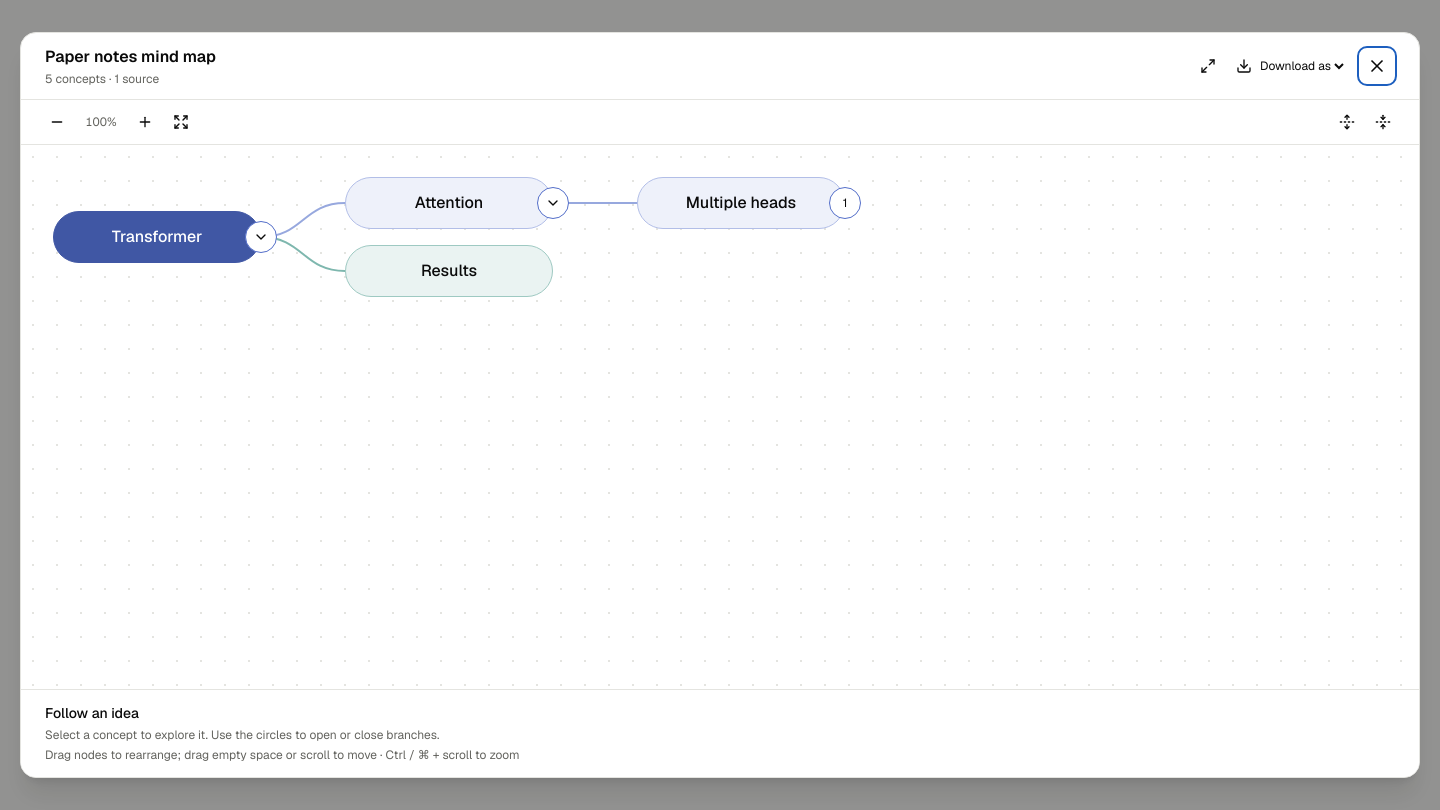
Test: mind map exploration › opens an overview and reveals deeper concepts through separate branch controls
Click the button named "Expand Multiple heads" at [845, 203], box [829,187,861,219]
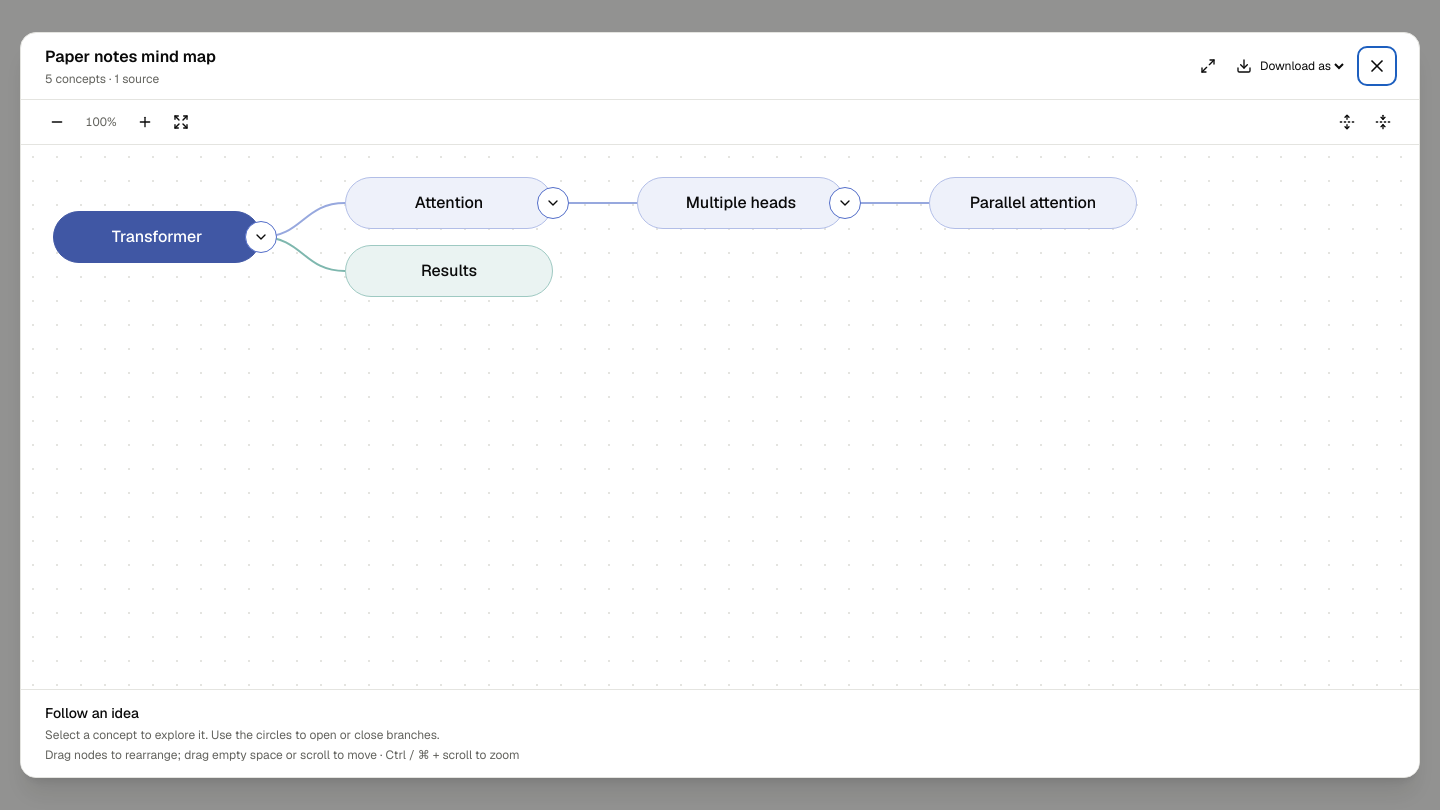
Check: the button with aria-label "Explore Parallel attention" is shown, box [929,177,1137,229]
Click the button named "Collapse all branches" at [1383, 122], box [1367,106,1399,138]
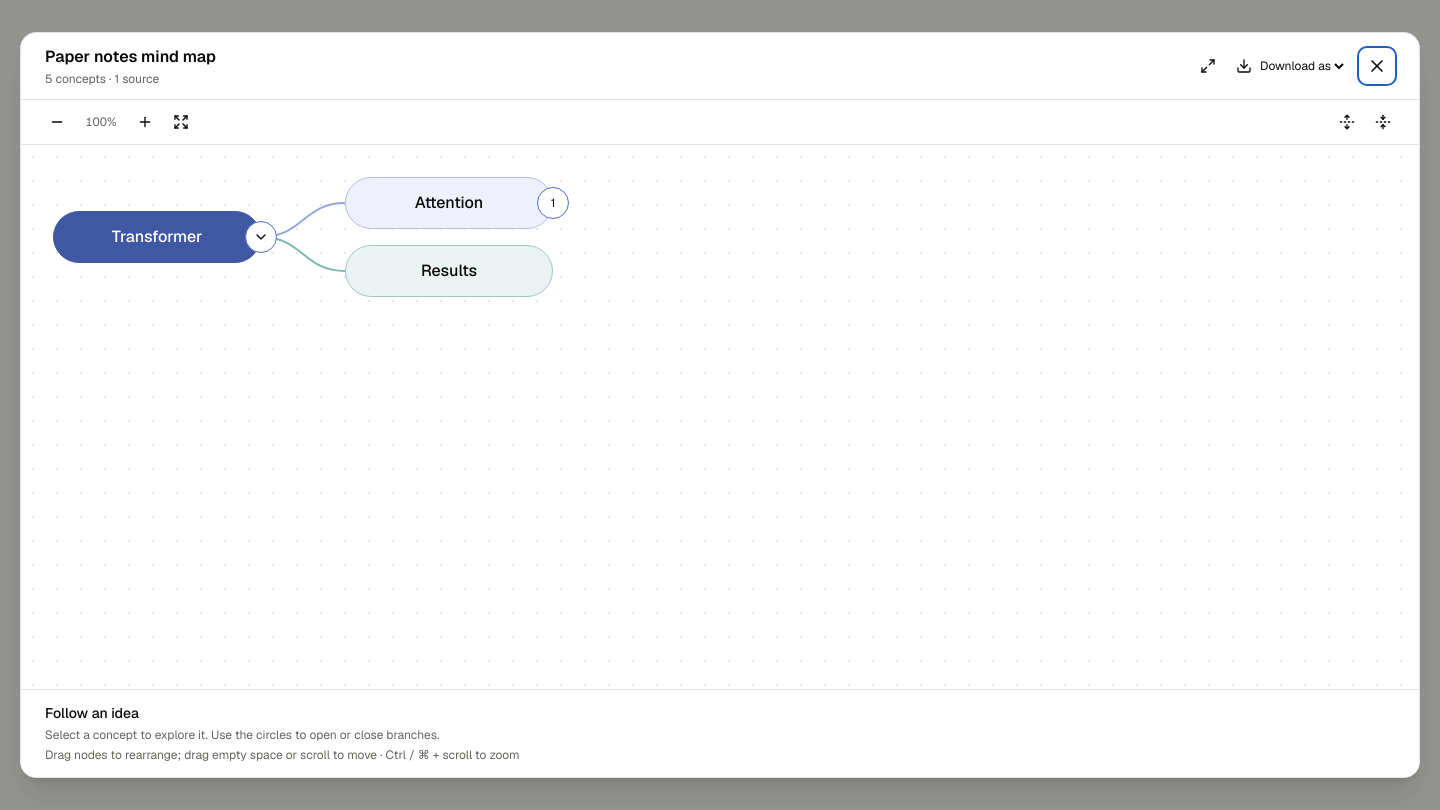
Click the button named "Expand all branches" at [1347, 122], box [1331,106,1363,138]
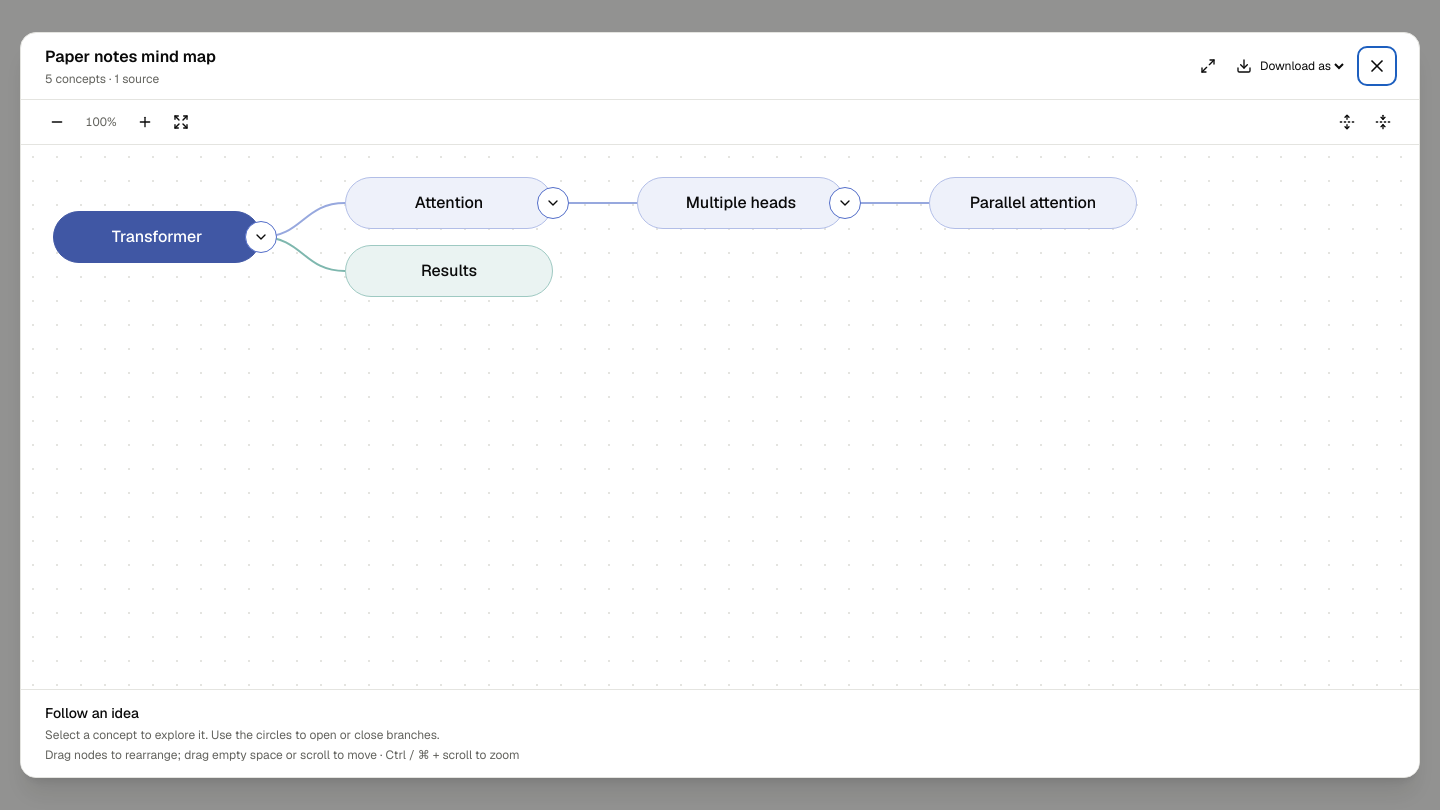
Check: the button with aria-label "Explore Parallel attention" is shown, box [929,177,1137,229]
